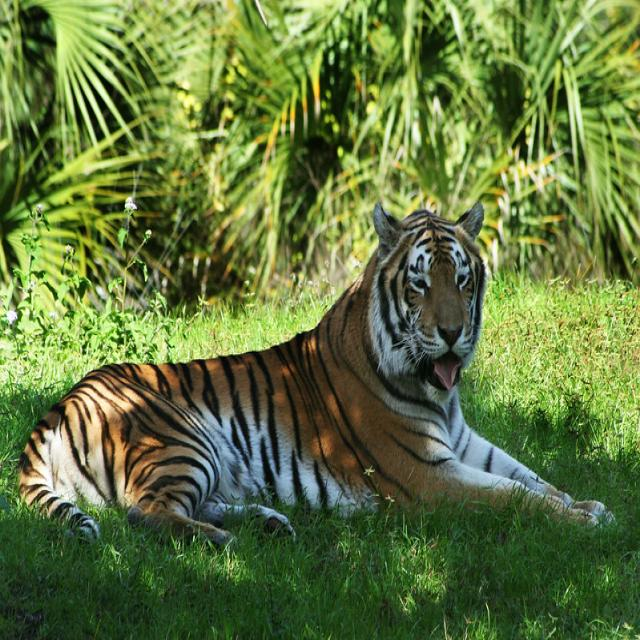Tiger: (13, 188, 601, 552)
